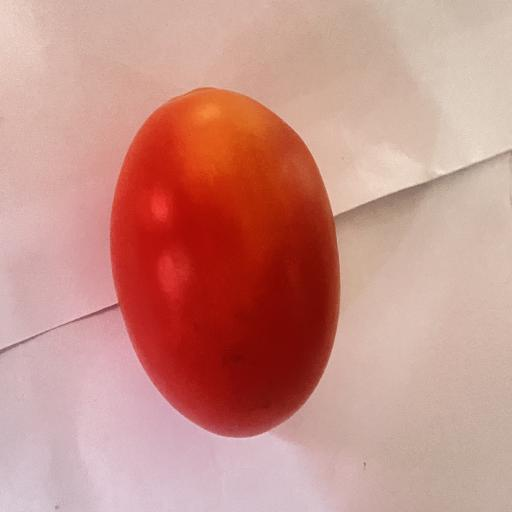ripe: (111, 88, 340, 436)
